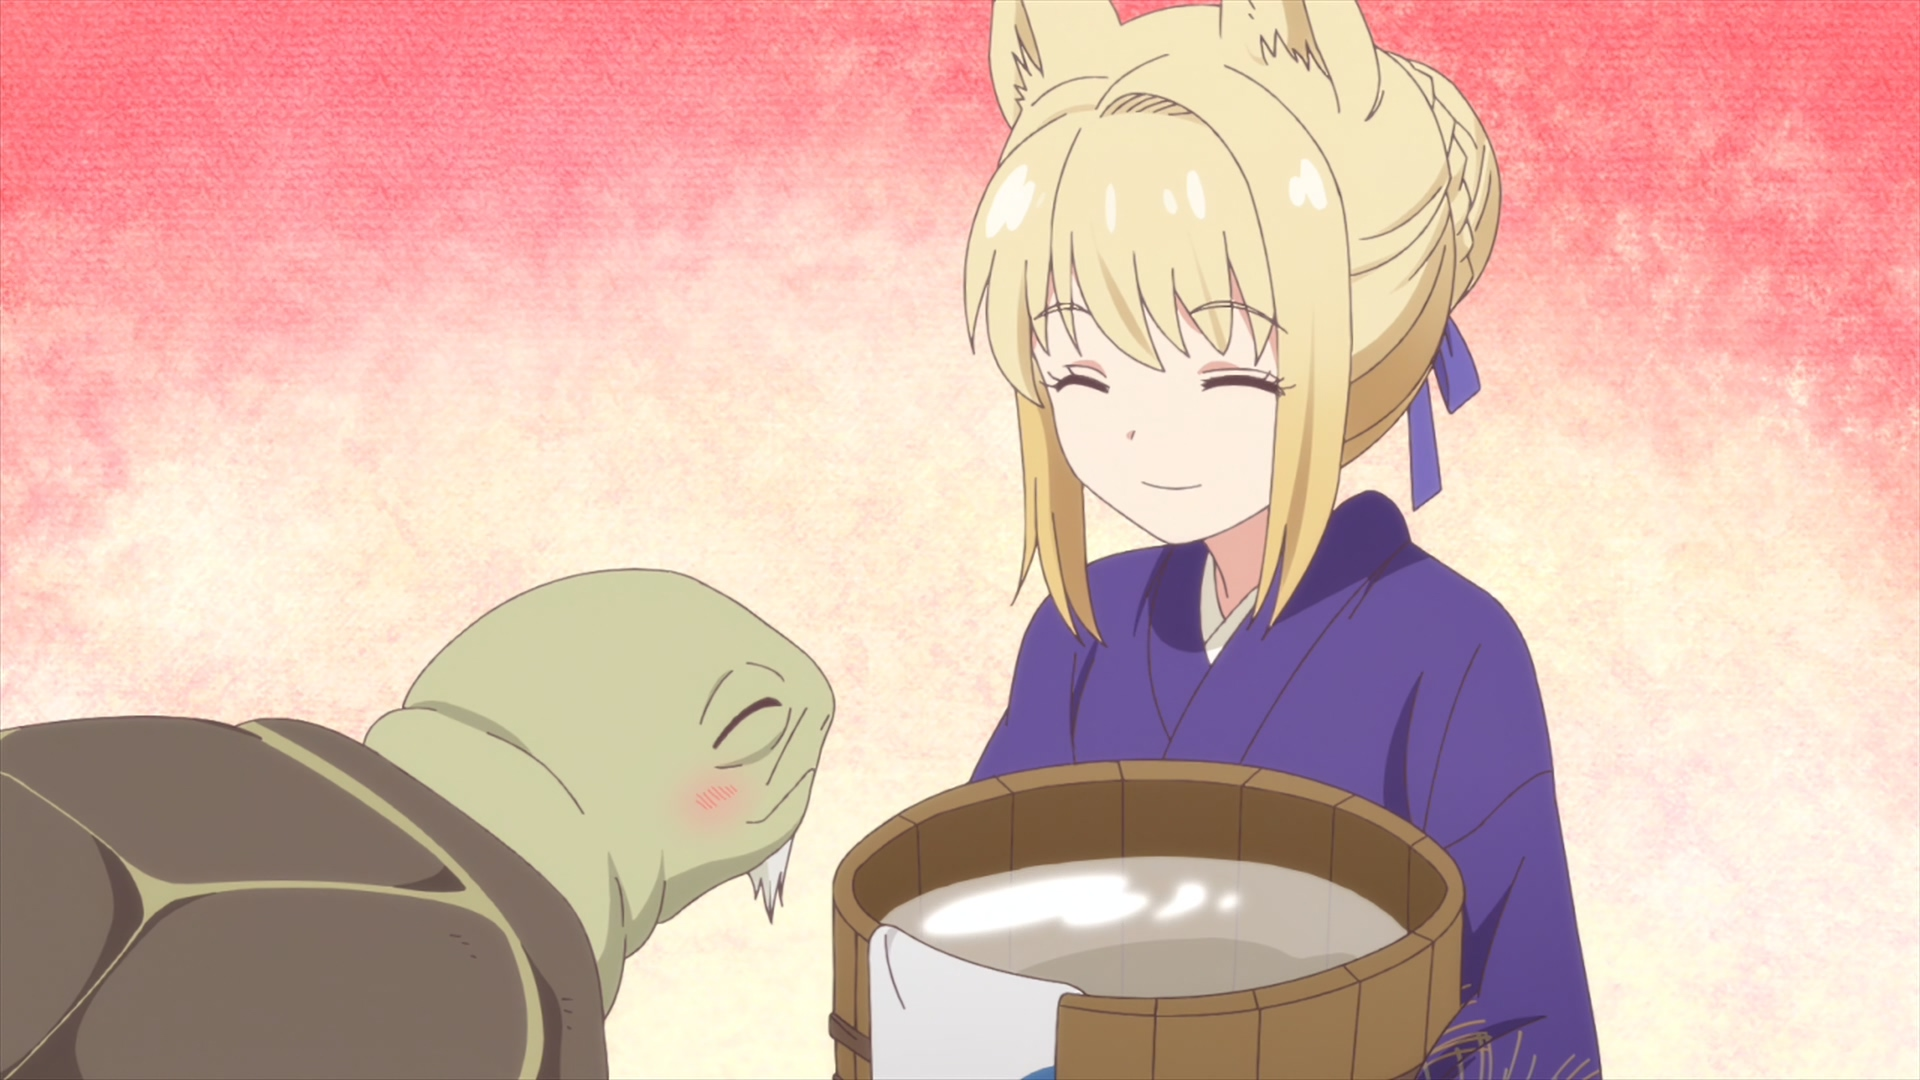其他: (1, 568, 835, 1080)
桐: (964, 1, 1602, 1080)
